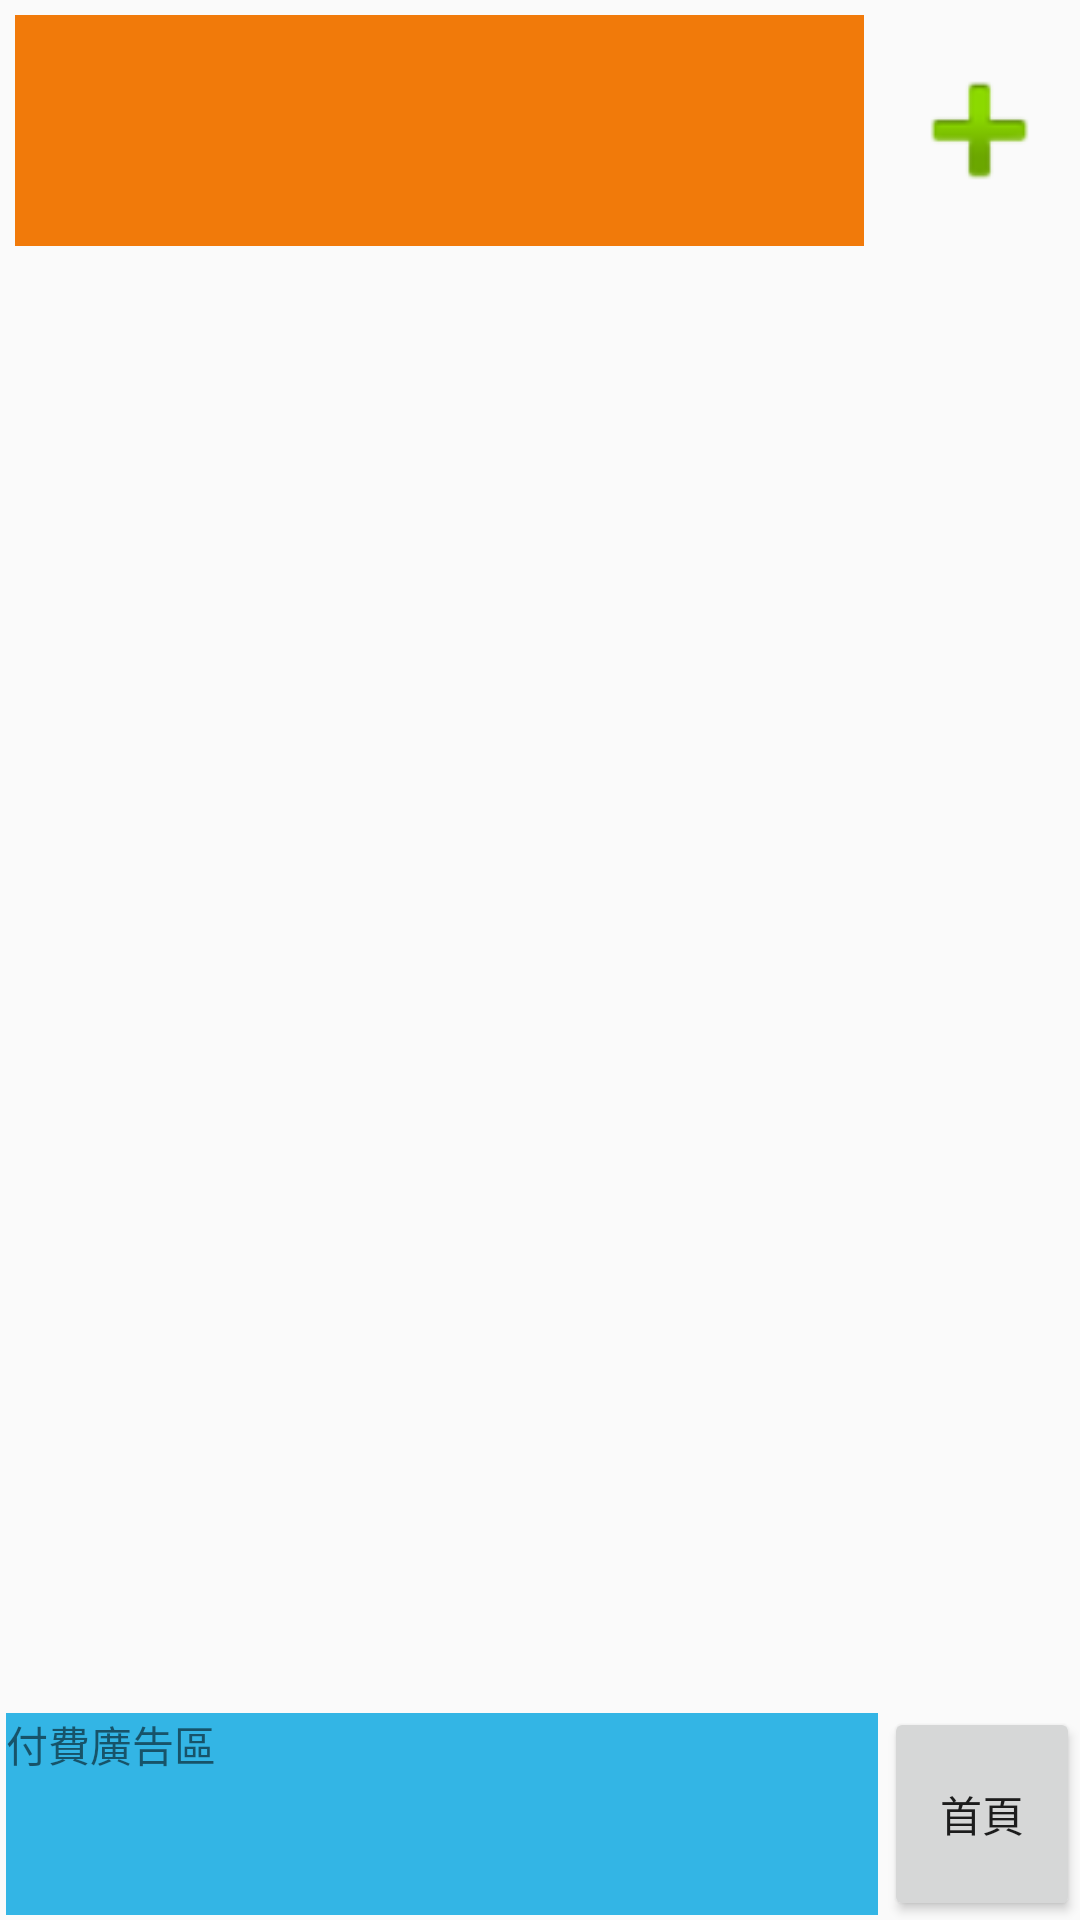

Screen size 1080 × 1920. Icon name, then its box in pixels as [x1, y1, x2, y2]:
add: [931, 82, 1028, 179]
